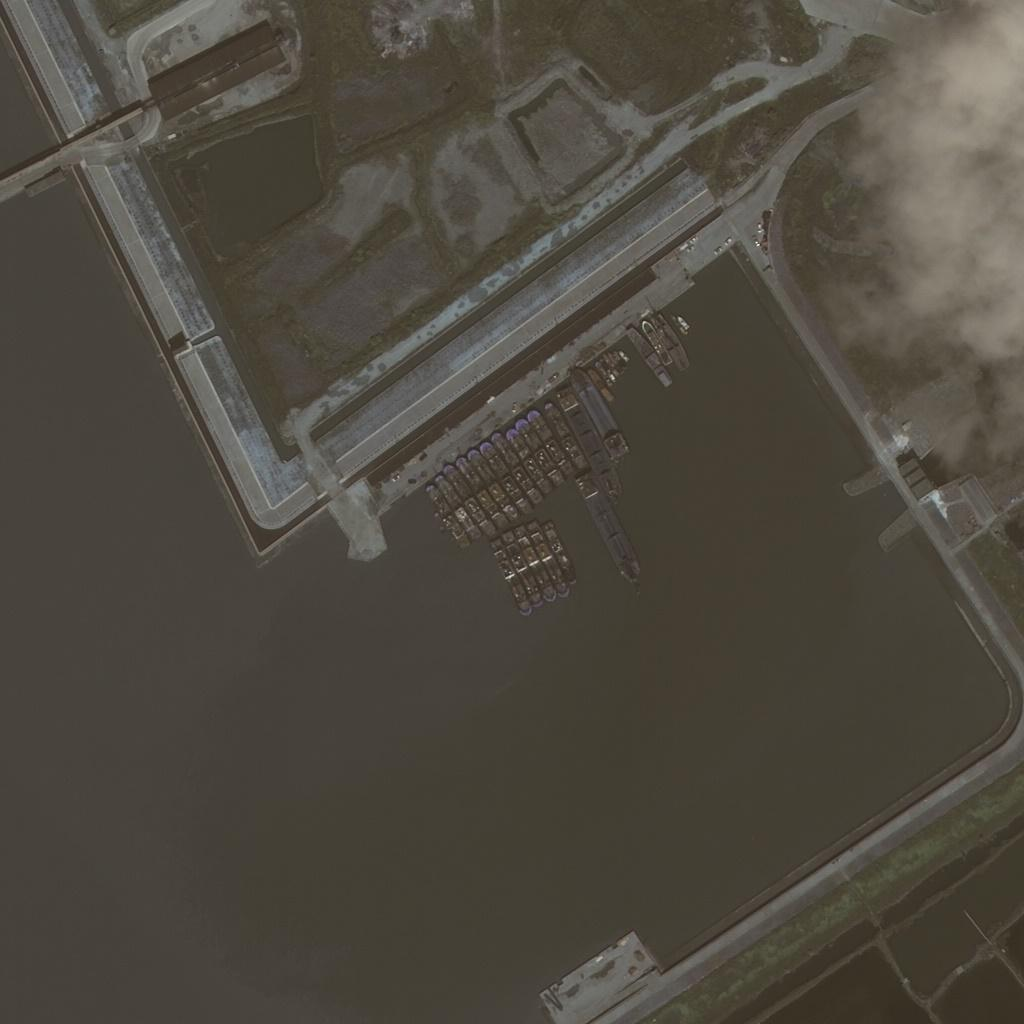ship: (579, 461, 651, 573), (574, 367, 634, 461)
